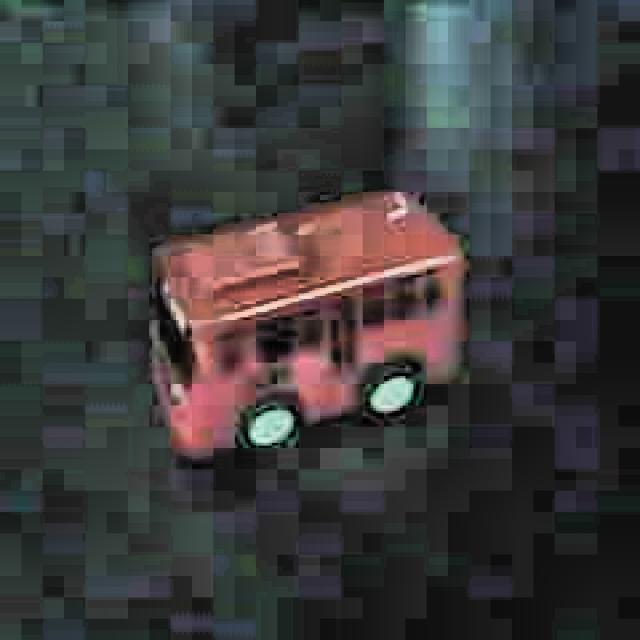bus: (146, 184, 465, 463)
